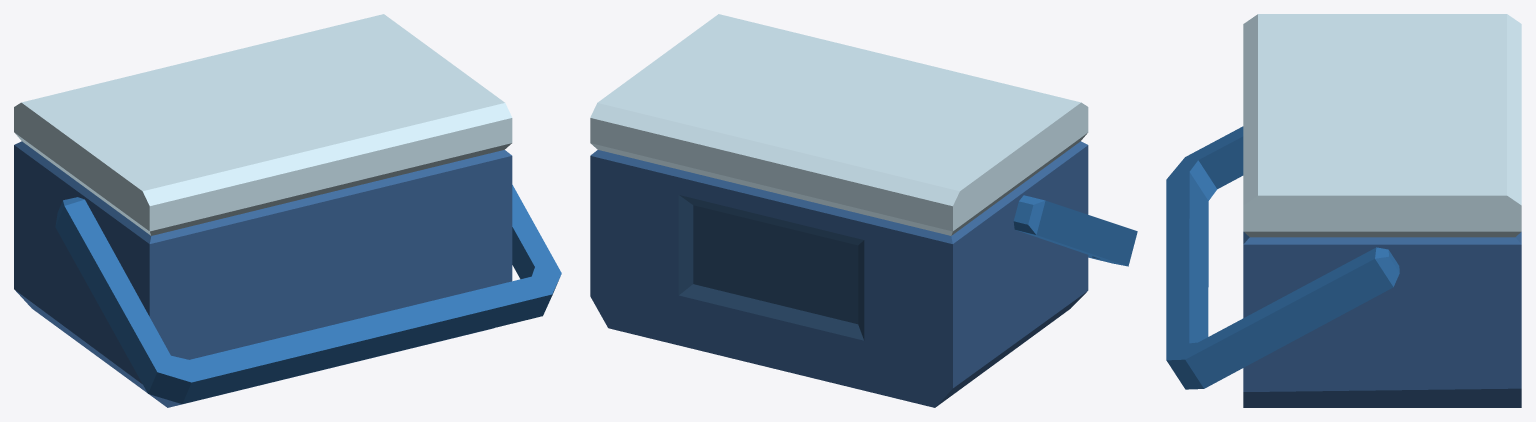
The model's file is cooler-v1-transformed.glb.
3 renders of one model, left to right at view 1: azimuth 30°, elevation 25°; view 2: azimuth 150°, elevation 25°; view 3: azimuth 270°, elevation 25°, orthographic. The views are drawn at different scales.
Parts seen in each view (by area): view 1: SM_Prop_Cooler_01; view 2: SM_Prop_Cooler_01; view 3: SM_Prop_Cooler_01.
Boxes of the visible parts, box(x1,y1,x2,y2) form: SM_Prop_Cooler_01: box(14, 14, 561, 407); SM_Prop_Cooler_01: box(590, 14, 1137, 407); SM_Prop_Cooler_01: box(1166, 14, 1521, 407).
Size of the model in its own units: 0.5793 by 0.295 by 0.4292.
1 material, 1 textured.
